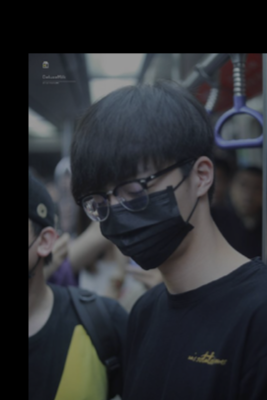with_mask: (88, 160, 198, 271)
